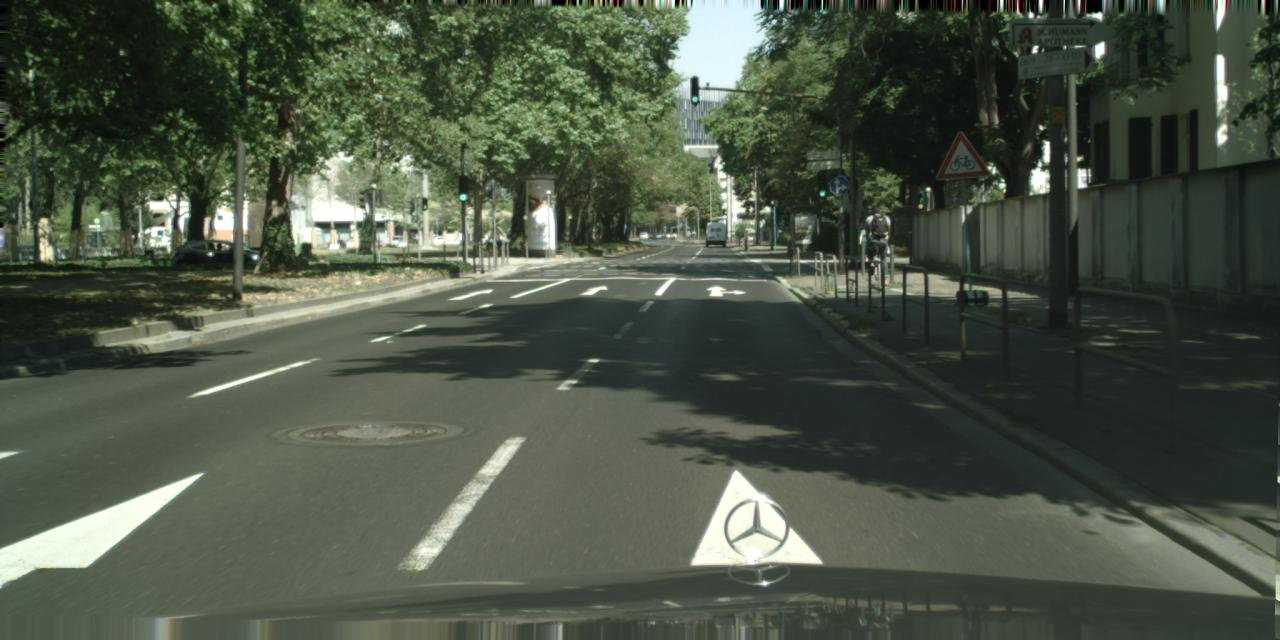ped: (862, 205, 892, 279), (862, 218, 878, 259)
